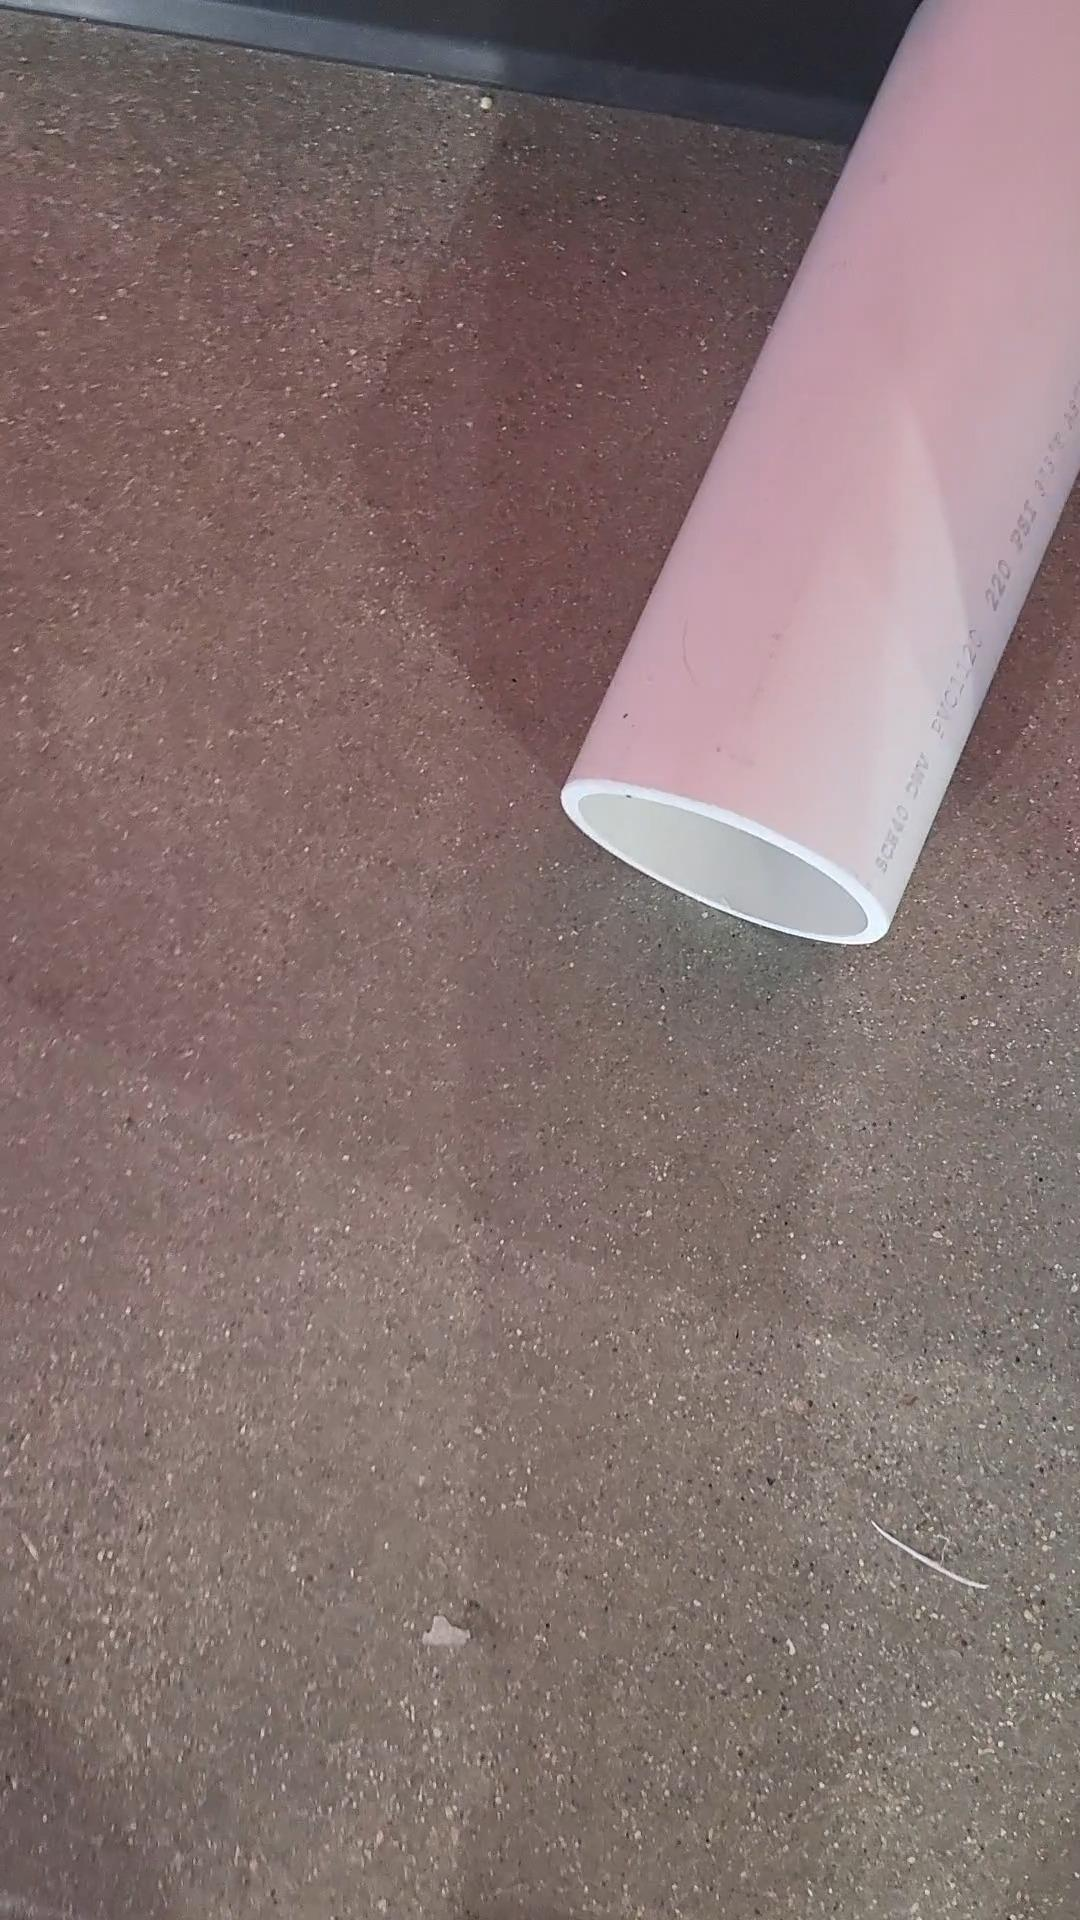coral: (560, 0, 1080, 960)
